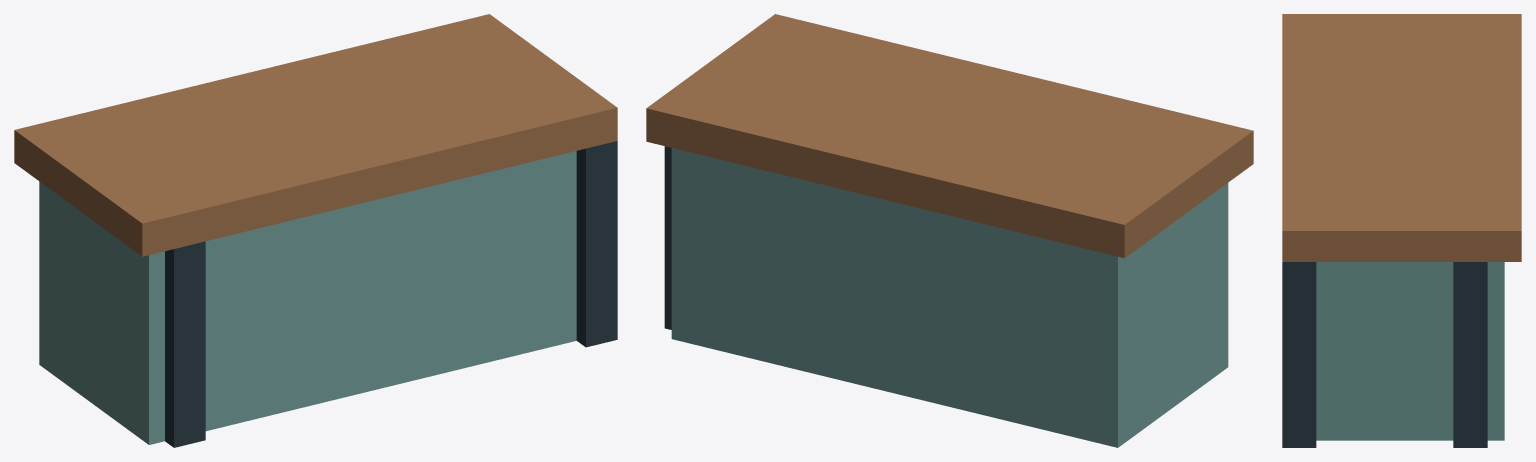
File: health-16.glb
3 views of the same model, side by side, from view 1: azimuth 30°, elevation 25°; view 2: azimuth 150°, elevation 25°; view 3: azimuth 270°, elevation 25° (orthographic). The views are drawn at different scales.
Visible parts, largest first — view 1: Appointment desk; view 2: Appointment desk; view 3: Appointment desk.
Part boxes in pixels (left/top/right/bottom): Appointment desk: left=14, top=14, right=617, bottom=447; Appointment desk: left=646, top=14, right=1253, bottom=447; Appointment desk: left=1282, top=14, right=1521, bottom=447.
Size of the model in its own units: 2.4 by 1.12 by 1.12.
